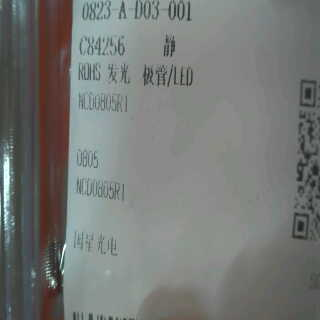LED: (105, 60, 196, 87)
